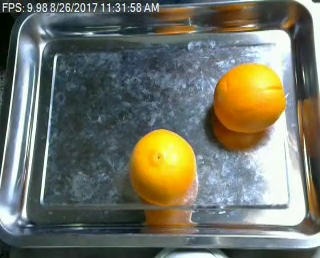Orange: (129, 127, 198, 205), (212, 61, 285, 132)
